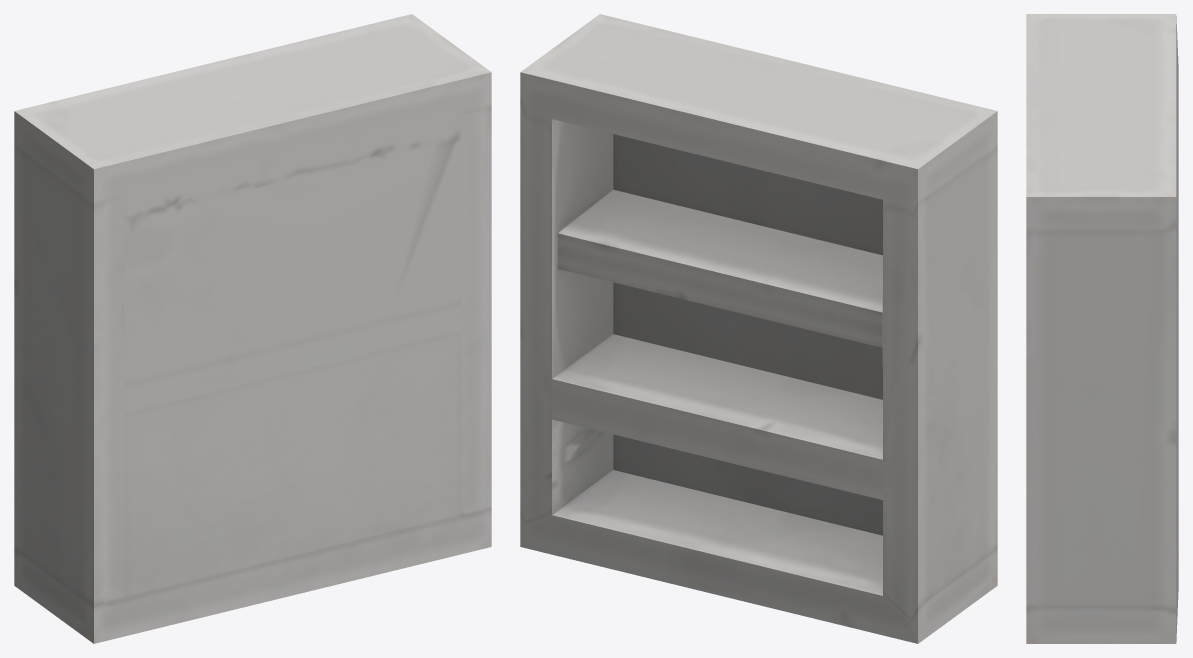
File: Pfb_Indoors_Study_Shelf__4.fbx
3 views of the same model, side by side, from view 1: azimuth 30°, elevation 25°; view 2: azimuth 150°, elevation 25°; view 3: azimuth 270°, elevation 25° (orthographic). The views are drawn at different scales.
Parts seen in each view (by area): view 1: Mat_Indoors_Study_01_2; view 2: Mat_Indoors_Study_01_2; view 3: Mat_Indoors_Study_01_2.
Part boxes in pixels (bbox=[...]): Mat_Indoors_Study_01_2: bbox=[14, 14, 491, 643]; Mat_Indoors_Study_01_2: bbox=[520, 14, 997, 643]; Mat_Indoors_Study_01_2: bbox=[1026, 14, 1178, 643].
Size of the model in its own units: 1.77 by 2.01 by 0.6209.
1 material, 1 textured.
